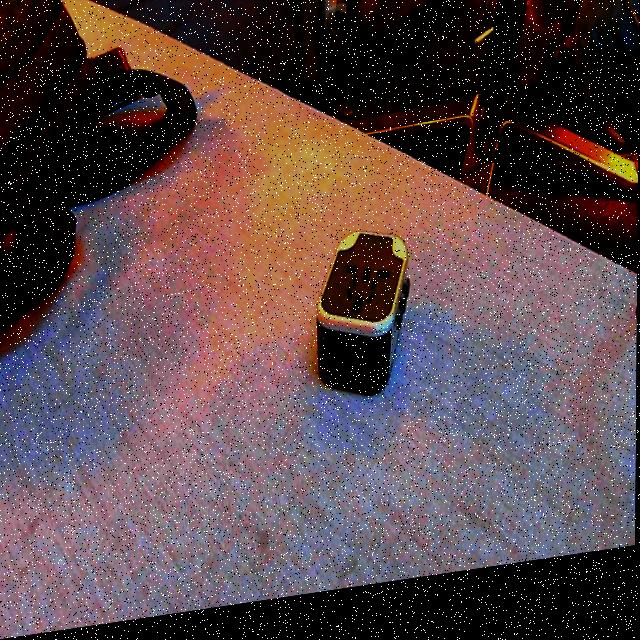adapter: (315, 234, 411, 414)
